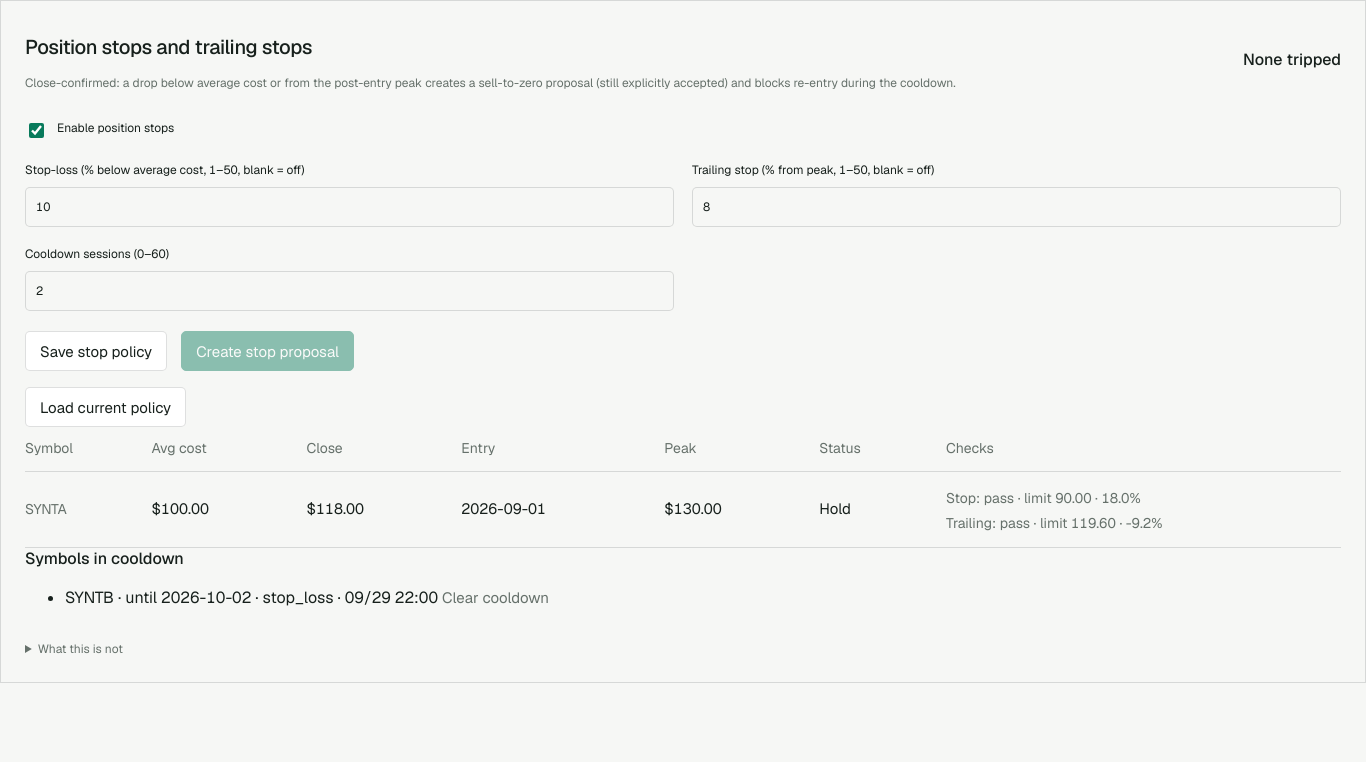
Test case: retains a rejected draft and its version through 409 and failed reload, then loads current policy
The image size is (1366, 762).
Step 1. Replace the text in the field labelled "Stop-loss (% below average cost, 1–50, blank = off)" with "22" → {"x": 350, "y": 207}, box [25,187,674,227]
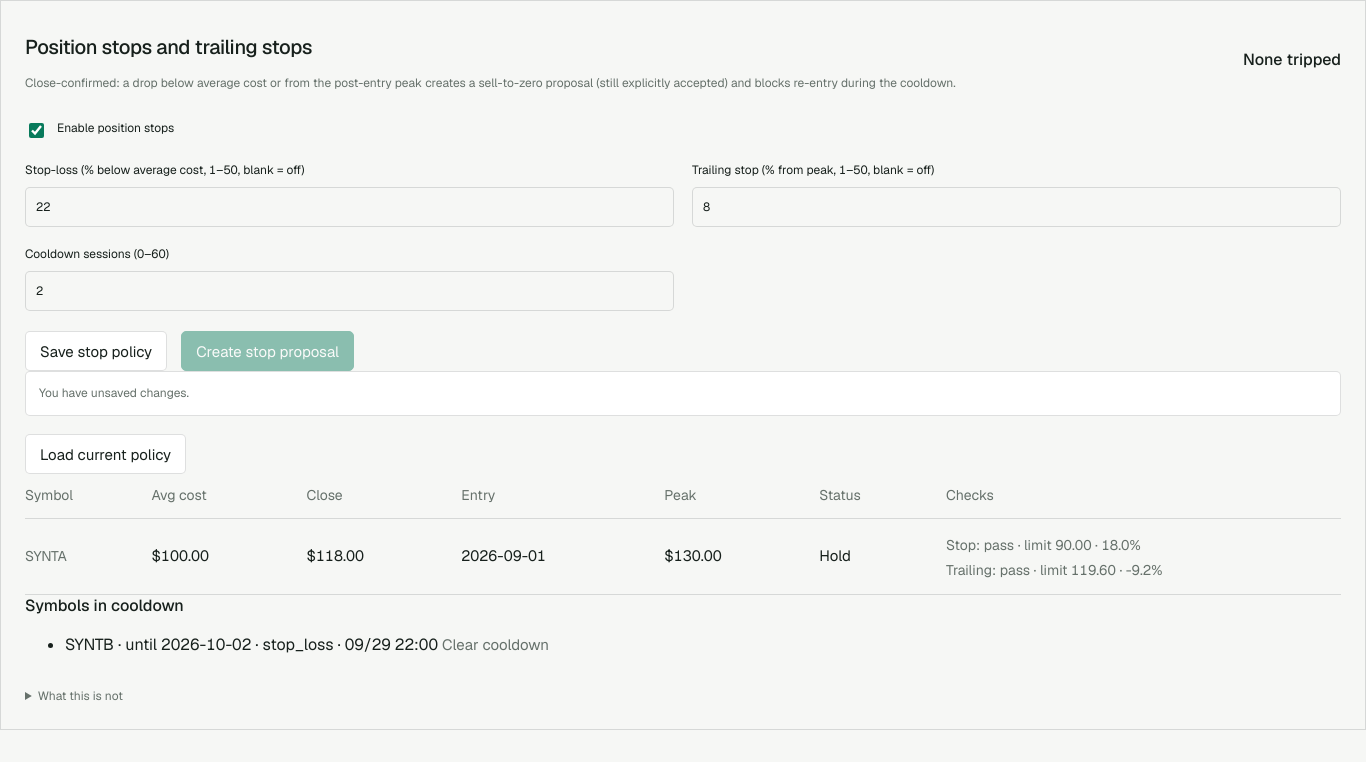
Step 2. Click the button "Save stop policy" → {"x": 96, "y": 351}, box [25,331,167,371]
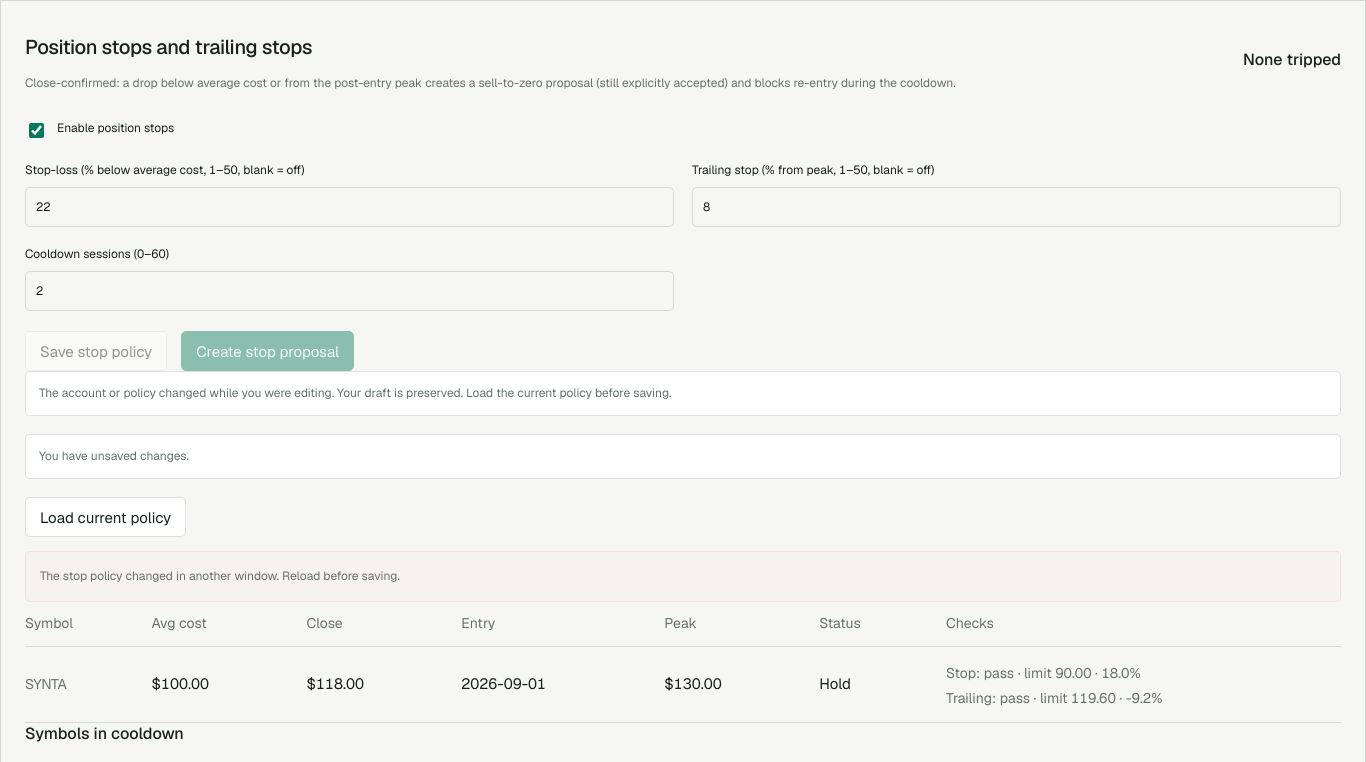
Check: the text "The account or policy changed while you were editing" is shown, box [39,385,671,401]
Check: the button "Save stop policy" is disabled, box [25,331,167,371]
Step 3. Click the button "Load current policy" → {"x": 106, "y": 517}, box [25,497,186,537]
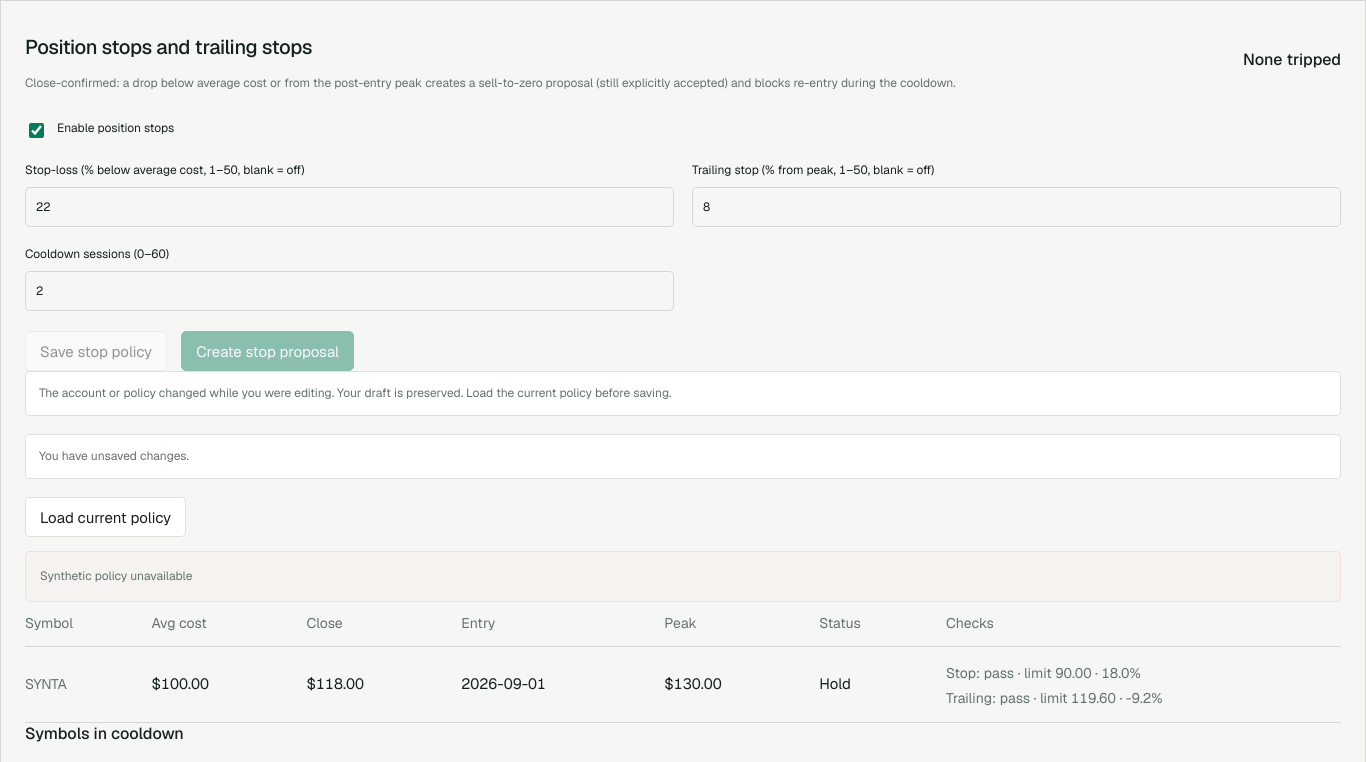
Check: the button "Save stop policy" is disabled, box [25,331,167,371]
Check: the text "Synthetic policy unavailable" is shown, box [25,551,1341,602]
Step 4. Click the button "Load current policy" → {"x": 106, "y": 517}, box [25,497,186,537]
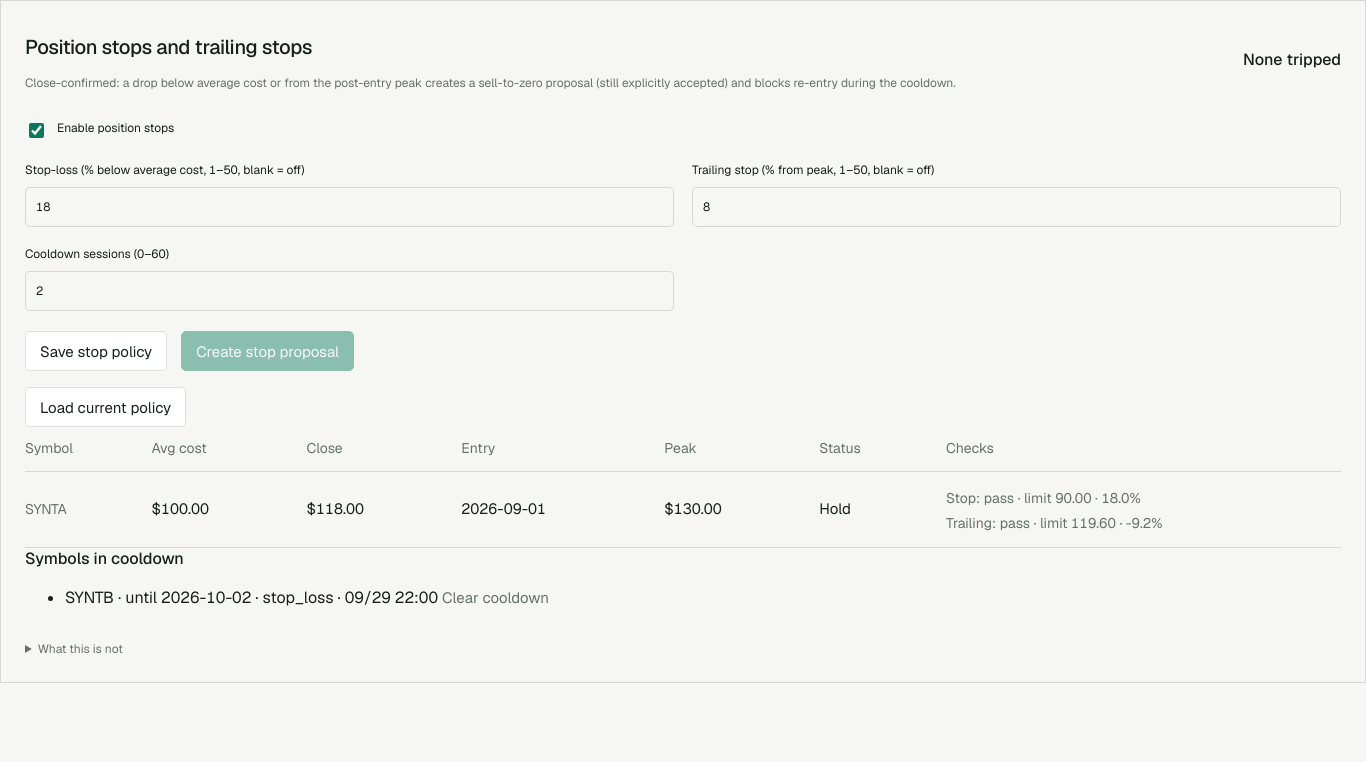
Check: the field labelled "Stop-loss (% below average cost, 1–50, blank = off)" holds "18", box [25,187,674,227]
Check: the button "Save stop policy" is enabled, box [25,331,167,371]
